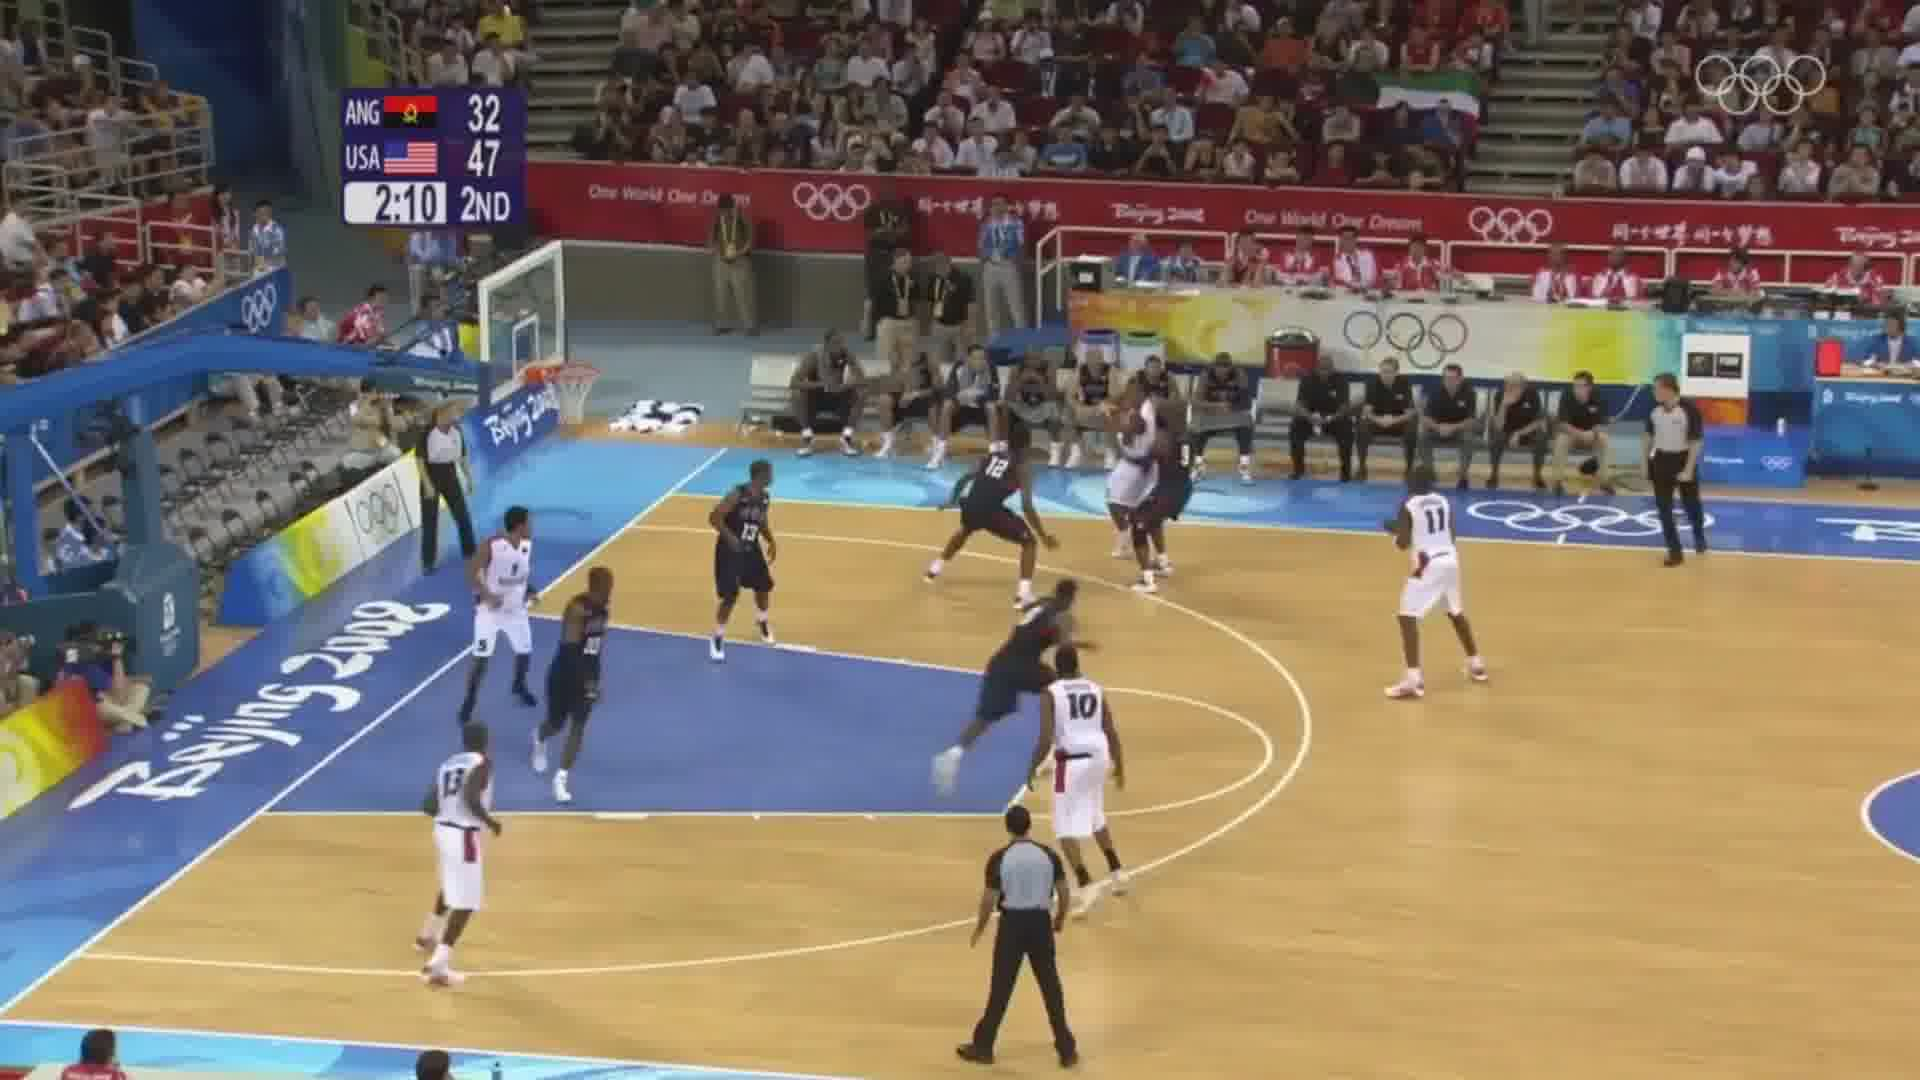net: (545, 360, 600, 425)
